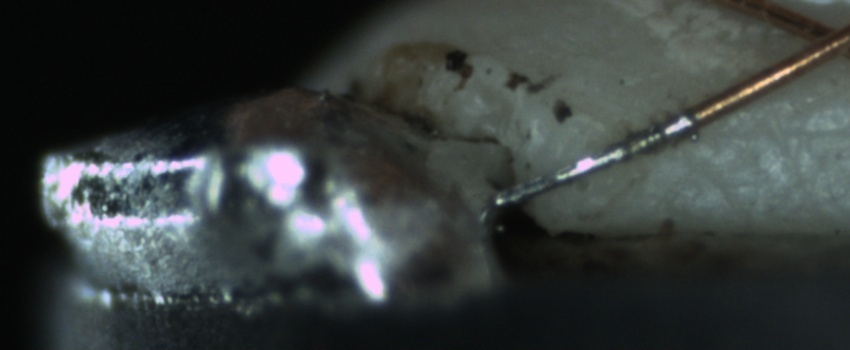CL: (778, 4, 850, 69)
DL: (689, 95, 849, 160)
TS: (494, 115, 695, 208)
TTCW: (492, 106, 713, 206)
